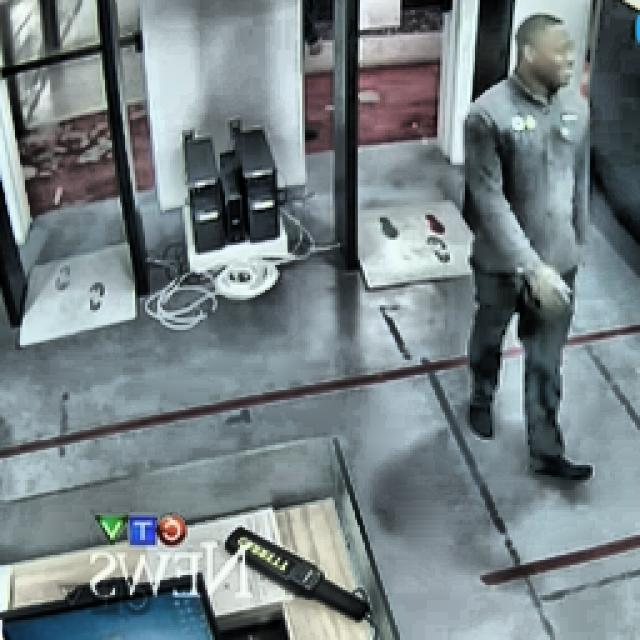Human: (454, 16, 630, 491)
